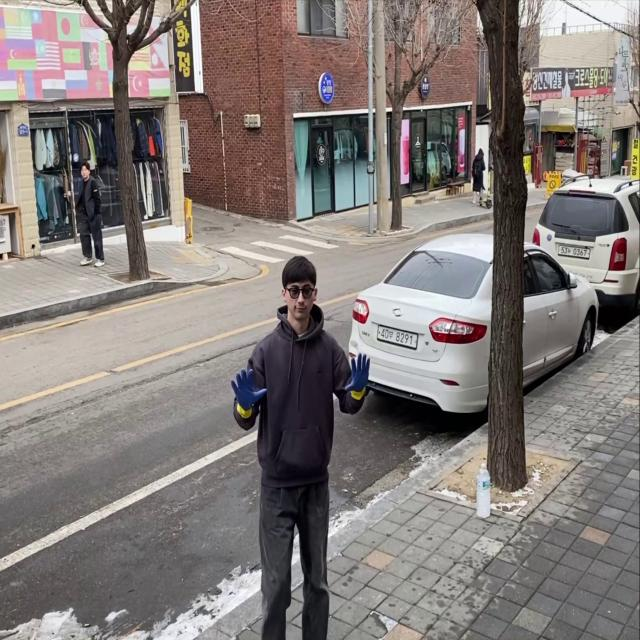gloved_hand: (225, 364, 268, 412), (339, 352, 372, 397)
